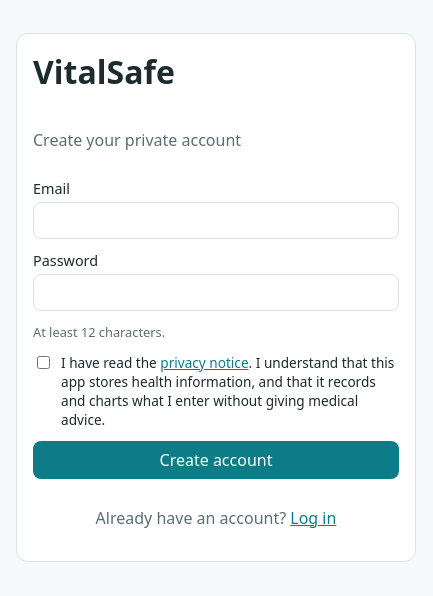
it: AuthPage in register mode › shows field problems from the server
Type "taken@example.com" into the field labelled "Email" at (216, 220), box [33,202,399,238]
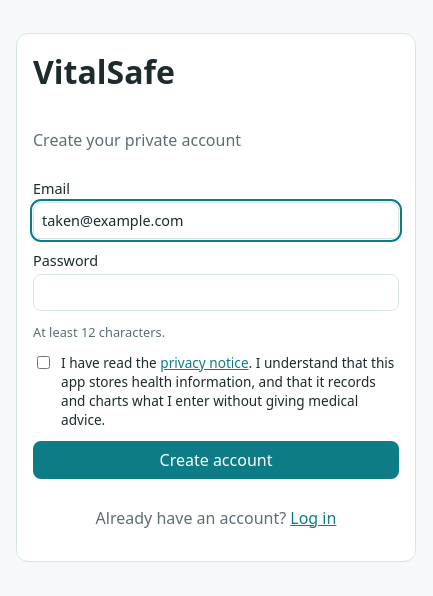
Type "StrongPassw0rd12" into the password field labelled "Password" at (216, 292), box [33,274,399,310]
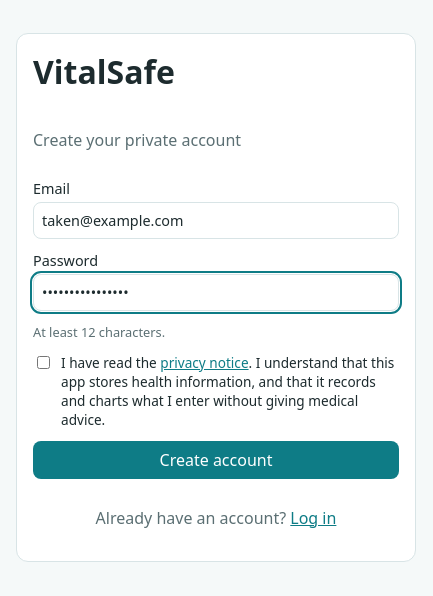
Click the checkbox at (44, 362), box [37,356,50,369]
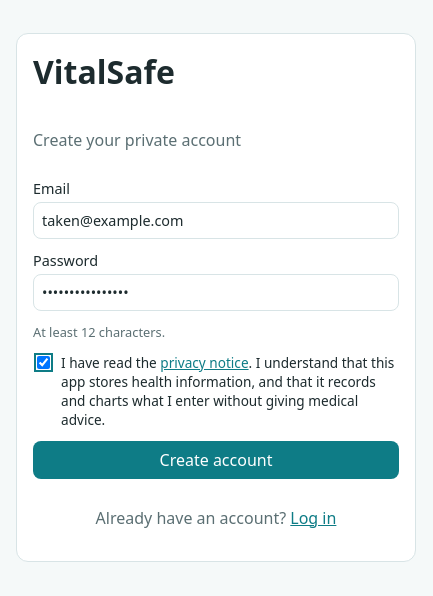
Click the button "Create account" at (216, 460), box [33,440,399,478]
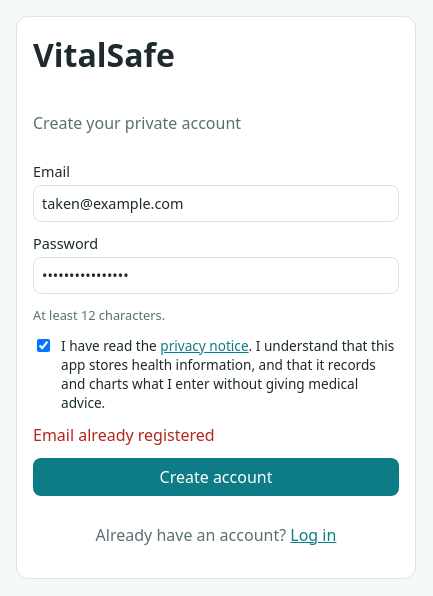
expect the message reads "Email already registered": met, box [33,424,215,446]
